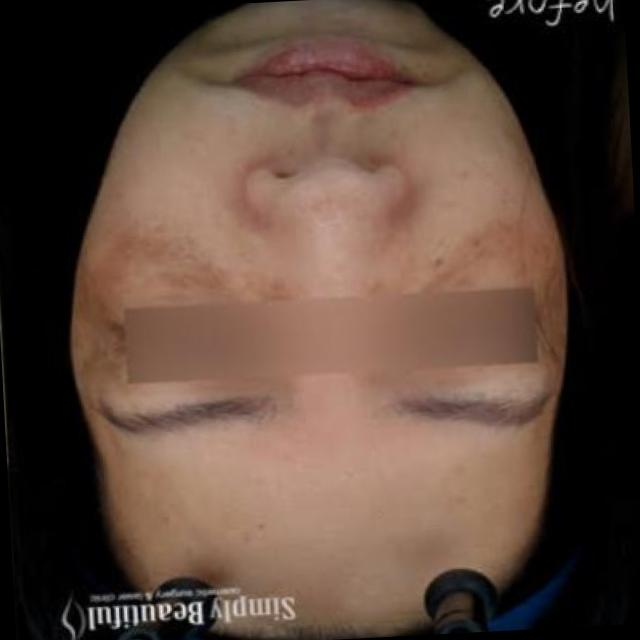melasma: (83, 229, 268, 328), (389, 223, 564, 286)
